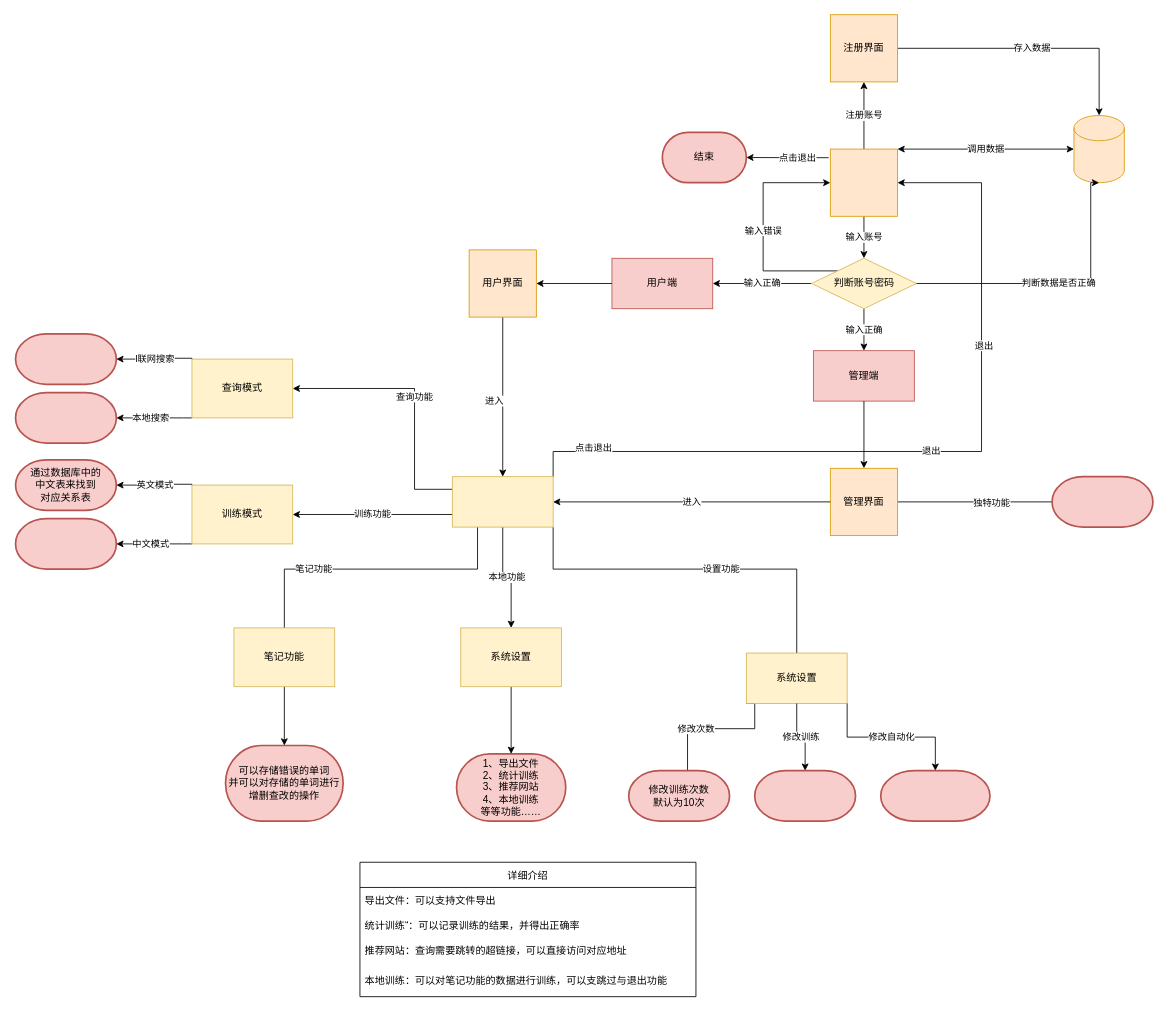
This 1168x1011 diagram has some shape labels left out. The shapes that lost their labels are listed below. From the top down, each one's centre as x and y in pixels, then its label:
point (1098, 149): 数据库 —用户表
point (864, 182): 登录界面
point (65, 359): 将输入的单词在 互联网上查询
point (65, 417): 查询所有数据库 并支持中英文互查
point (502, 501): 主页面
point (1102, 501): 更改总数据表 （训练模式内容）
point (65, 543): 通过数据库中的 英文表来找到 对应关系表
point (804, 795): 修改训练语言 默认为中译英
point (934, 795): 修改是否自动保存 默认自动保存
